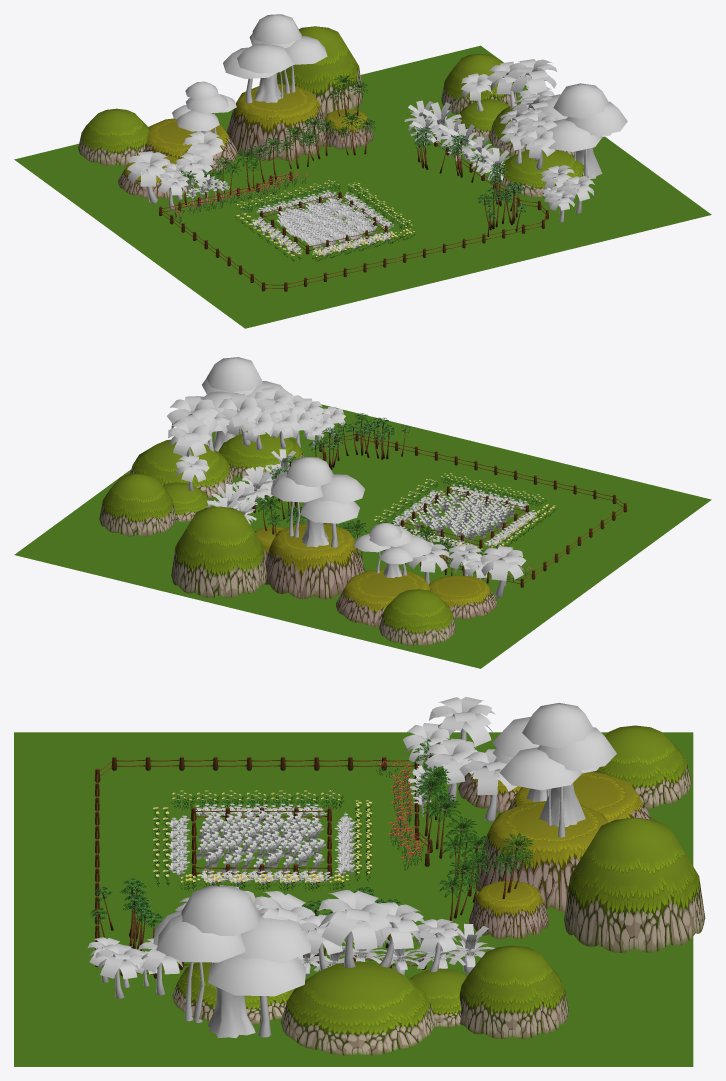
File: SampleScene1.FBX
3 renders of one model, top to bottom at view 1: azimuth 30°, elevation 25°; view 2: azimuth 150°, elevation 25°; view 3: azimuth 270°, elevation 25°, orthographic. The views are drawn at different scales.
Visible parts, largest first — view 1: Plane081, Cylinder034, Object091, Object139, Sphere141, Sphere142, Cylinder080, Sphere145, Object177, Line219, Object092, Cylinder033 (+23 smaller); view 2: Plane081, Sphere141, Cylinder034, Object091, Sphere146, Sphere142, Cylinder033, Sphere144, Object139, Object092, Cylinder032, Sphere145 (+18 smaller); view 3: Plane081, Sphere141, Object139, Sphere144, Object091, Sphere146, Cylinder034, Sphere142, Cylinder080, Object177, Line219, Cylinder035 (+18 smaller).
Part boxes in pixels (left/top/right/bottom): Plane081: left=14, top=45, right=711, bottom=328; Cylinder034: left=226, top=84, right=327, bottom=161; Object091: left=223, top=14, right=327, bottom=103; Object139: left=533, top=83, right=627, bottom=186; Sphere141: left=277, top=26, right=362, bottom=118; Sphere142: left=78, top=108, right=149, bottom=165; Cylinder080: left=263, top=75, right=375, bottom=179; Sphere145: left=498, top=149, right=588, bottom=197; Object177: left=252, top=189, right=394, bottom=256; Line219: left=234, top=180, right=415, bottom=261; Object092: left=172, top=81, right=236, bottom=134; Cylinder033: left=143, top=118, right=237, bottom=172; Plane081: left=14, top=404, right=711, bottom=668; Sphere141: left=171, top=506, right=266, bottom=597; Cylinder034: left=265, top=523, right=365, bottom=599; Object091: left=270, top=456, right=364, bottom=547; Sphere146: left=99, top=473, right=176, bottom=536; Sphere142: left=379, top=589, right=455, bottom=645; Cylinder033: left=336, top=569, right=431, bottom=627; Sphere144: left=130, top=439, right=233, bottom=498; Object139: left=200, top=357, right=283, bottom=451; Object092: left=354, top=523, right=432, bottom=577; Cylinder032: left=429, top=575, right=497, bottom=619; Sphere145: left=218, top=431, right=304, bottom=479; Plane081: left=14, top=732, right=693, bottom=1066; Sphere141: left=564, top=817, right=705, bottom=952; Object139: left=153, top=885, right=310, bottom=1037; Sphere144: left=280, top=961, right=435, bottom=1055; Object091: left=492, top=703, right=616, bottom=837; Sphere146: left=459, top=945, right=568, bottom=1038; Cylinder034: left=474, top=801, right=608, bottom=911; Sphere142: left=592, top=725, right=691, bottom=808; Cylinder080: left=428, top=795, right=534, bottom=922; Object177: left=169, top=802, right=356, bottom=884; Line219: left=153, top=790, right=372, bottom=891; Cylinder035: left=469, top=880, right=548, bottom=939.
Bounding box in the file's own units: 1123 × 288 × 990.
